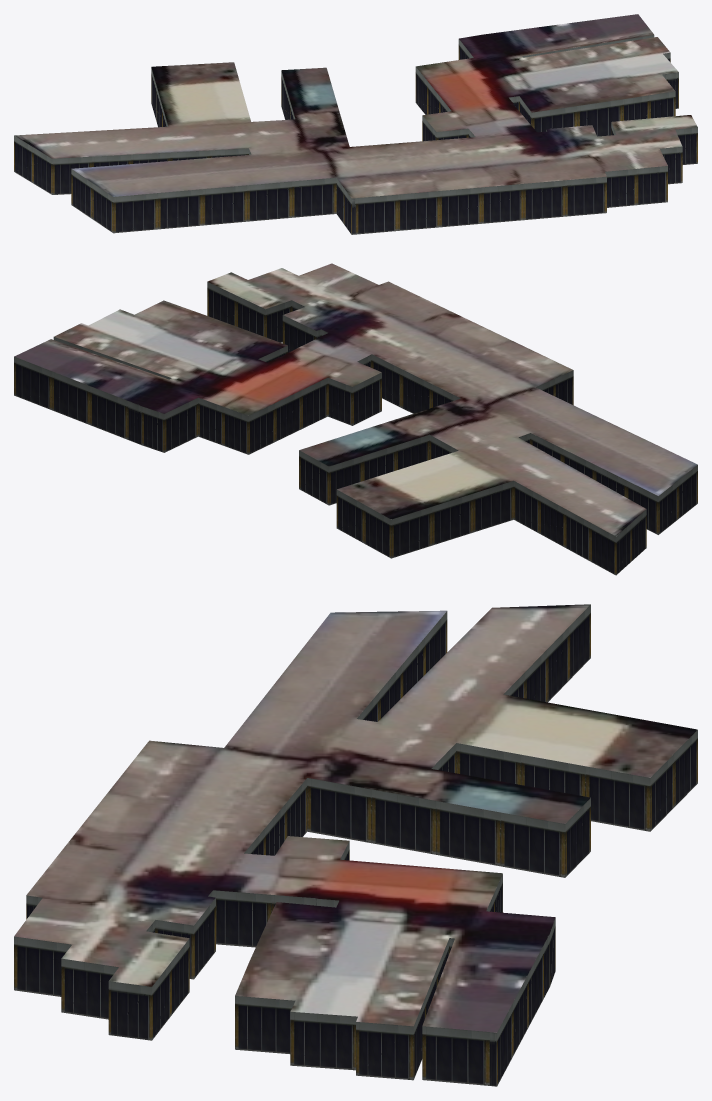
The model's file is T_1T8NS4PHBV.dae.
3 views of the same model, one above another, from view 1: azimuth 30°, elevation 25°; view 2: azimuth 150°, elevation 25°; view 3: azimuth 270°, elevation 25° (orthographic). The views are drawn at different scales.
Parts seen in each view (by area): view 1: SketchUp (×16); view 2: SketchUp (×22); view 3: SketchUp (×21).
Boxes of the visible parts, left/top/right/bottom form: SketchUp (×16): left=14, top=14, right=697, bottom=234; SketchUp (×22): left=14, top=263, right=697, bottom=575; SketchUp (×21): left=14, top=604, right=697, bottom=1086.
Bounding box in the file's own units: 83.4 × 56.25 × 4.89.
Materials: 2 (2 with a texture image).
